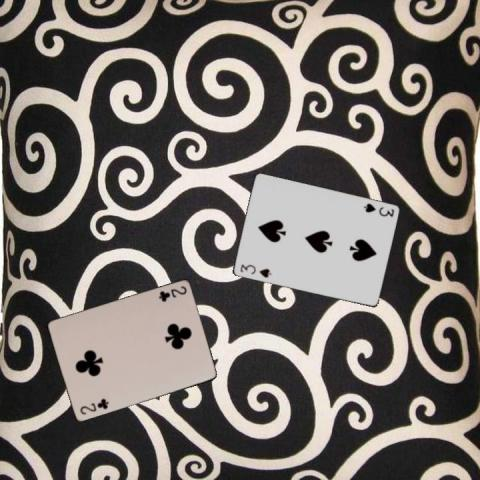2c: (77, 396, 110, 416), (155, 284, 188, 304)
3s: (237, 262, 272, 280), (361, 200, 395, 218)
